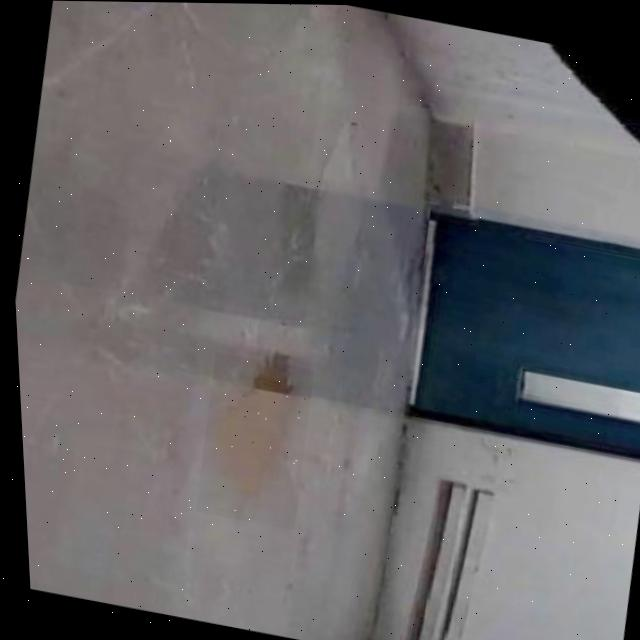spillage: (201, 360, 291, 518)
